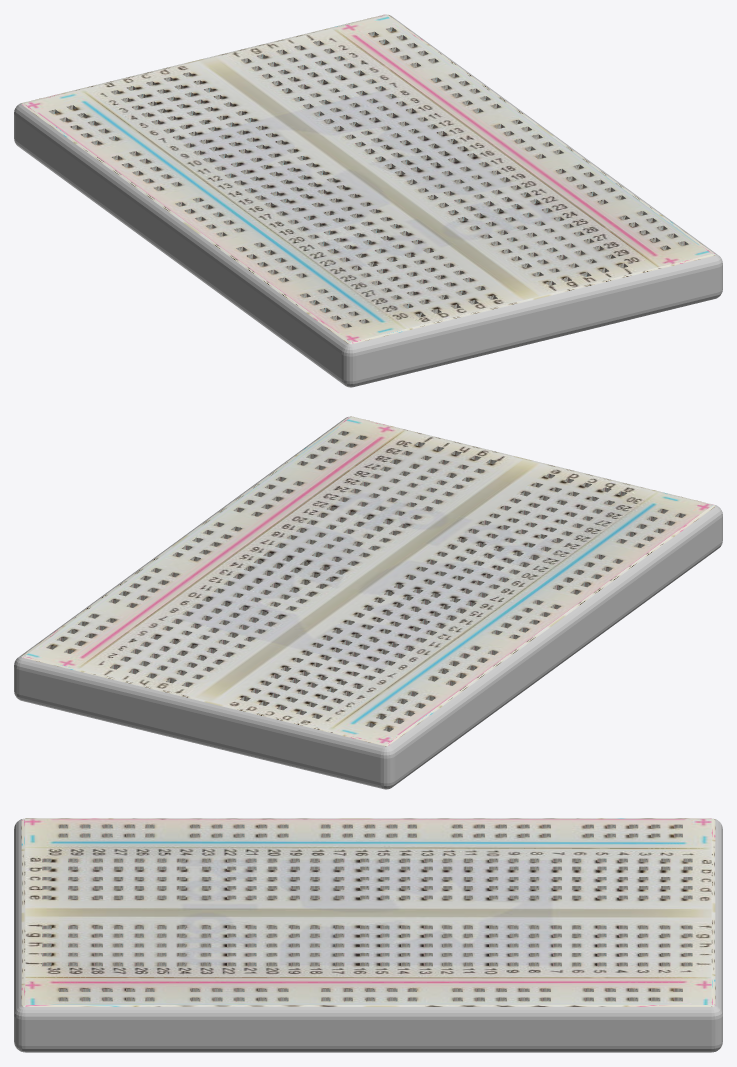
File: Breadboard.fbx
3 renders of one model, top to bottom at view 1: azimuth 30°, elevation 25°; view 2: azimuth 150°, elevation 25°; view 3: azimuth 270°, elevation 25°, orthographic. The views are drawn at different scales.
Parts seen in each view (by area): view 1: Boole_1; view 2: Boole_1; view 3: Boole_1.
Boxes of the visible parts, x1,y1,x2,y2 form: Boole_1: [14, 14, 722, 387]; Boole_1: [14, 416, 722, 789]; Boole_1: [14, 818, 722, 1052].
Size of the model in its own units: 491 by 54.61 by 754.
Materials: 2 (1 with a texture image).
